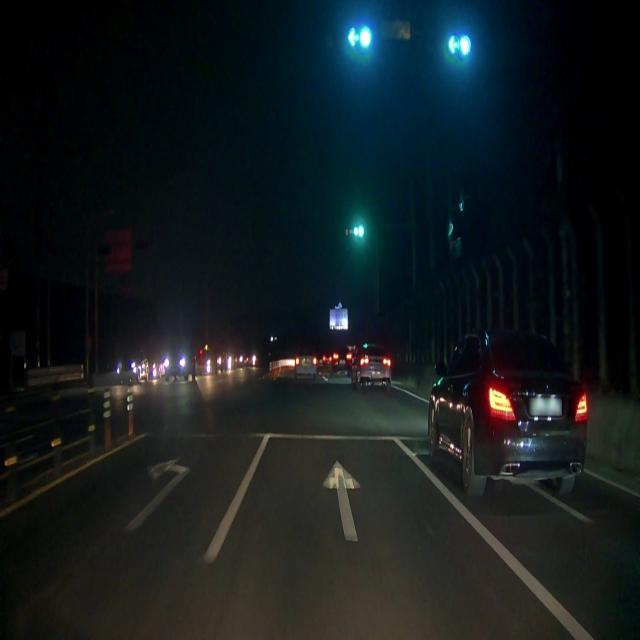Green Light: (459, 34, 472, 58), (359, 26, 372, 49)
